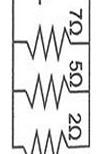resistor: (21, 21, 65, 60), (21, 71, 67, 106), (20, 126, 64, 153)
